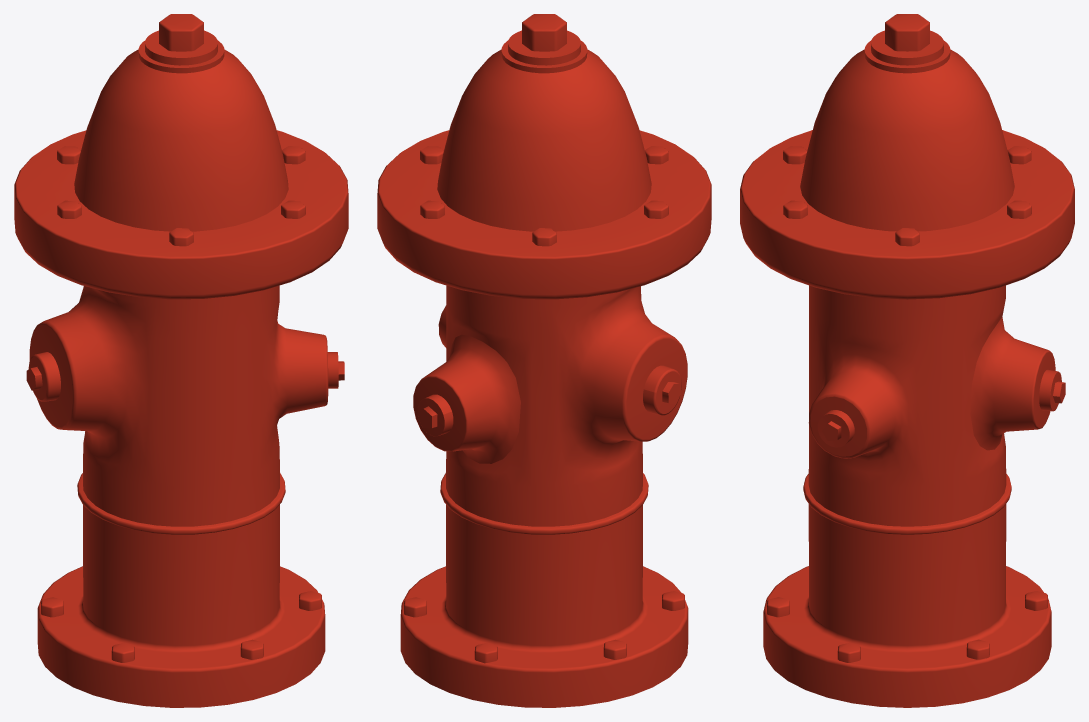
Rendered from rua_firehydrant.glb.
The picture shows the model from 3 angles, left to right: view 1: azimuth 30°, elevation 25°; view 2: azimuth 150°, elevation 25°; view 3: azimuth 270°, elevation 25°; orthographic projection.
Parts seen in each view (by area): view 1: SM_FireHydrant; view 2: SM_FireHydrant; view 3: SM_FireHydrant.
Boxes of the visible parts, x1,y1,x2,y2 form: SM_FireHydrant: (14,14,348,707); SM_FireHydrant: (377,14,711,707); SM_FireHydrant: (740,14,1074,707).
Size of what is drawn, in the model's own units: 0.3949 by 0.814 by 0.3949.
